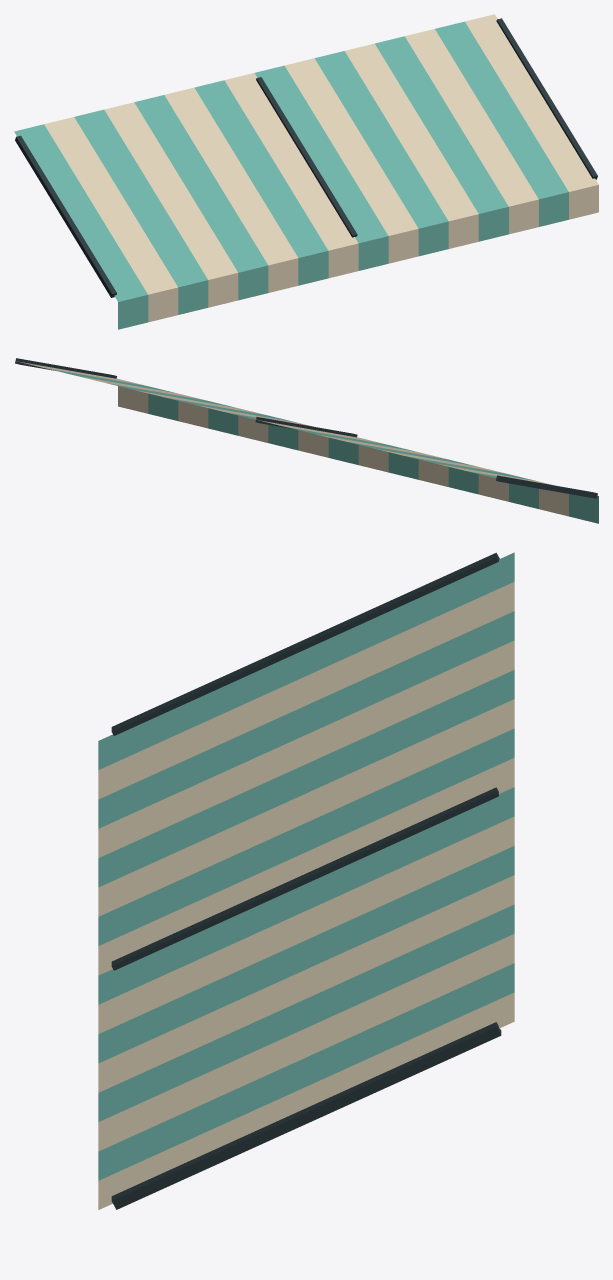
The model's file is awning.glb.
The picture shows the model from 3 angles, top to bottom: view 1: azimuth 30°, elevation 25°; view 2: azimuth 150°, elevation 25°; view 3: azimuth 270°, elevation 25°; orthographic projection. The views are drawn at different scales.
Visible parts, largest first — view 1: awning cloth, awning frame; view 2: awning cloth, awning frame; view 3: awning cloth, awning frame.
Part boxes in pixels (x1,y1,x2,y2): awning cloth: (14, 14, 598, 329); awning frame: (15, 18, 597, 297); awning cloth: (16, 361, 598, 523); awning frame: (15, 358, 597, 498); awning cloth: (98, 552, 514, 1209); awning frame: (111, 552, 501, 1209).
Bounding box in the file's own units: 4.04 × 0.97 × 1.5.
